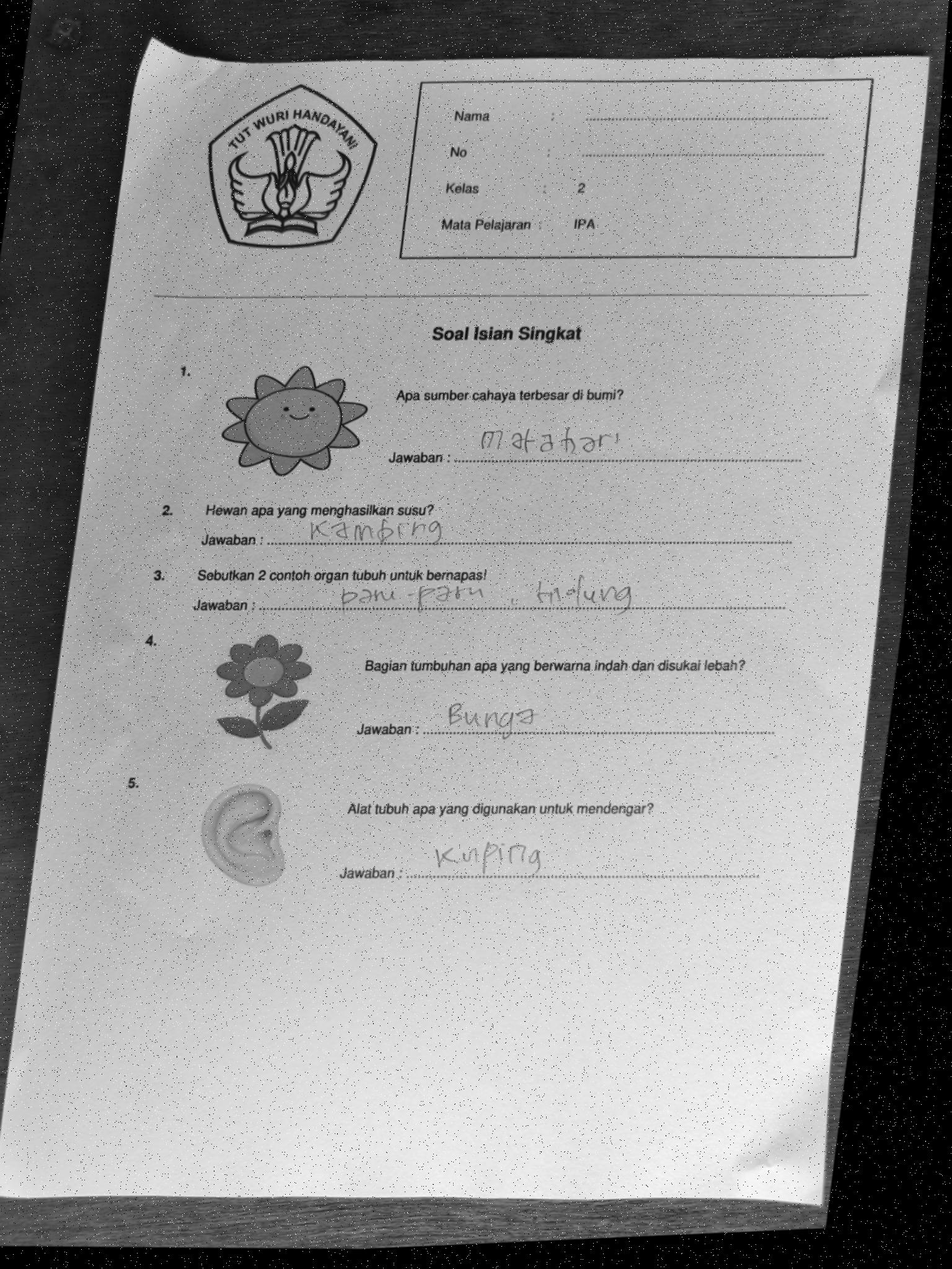soal-1: (155, 349, 835, 481)
soal-2: (141, 479, 821, 557)
soal-3: (136, 556, 810, 627)
soal-4: (112, 621, 803, 753)
soal-5: (99, 760, 797, 903)
